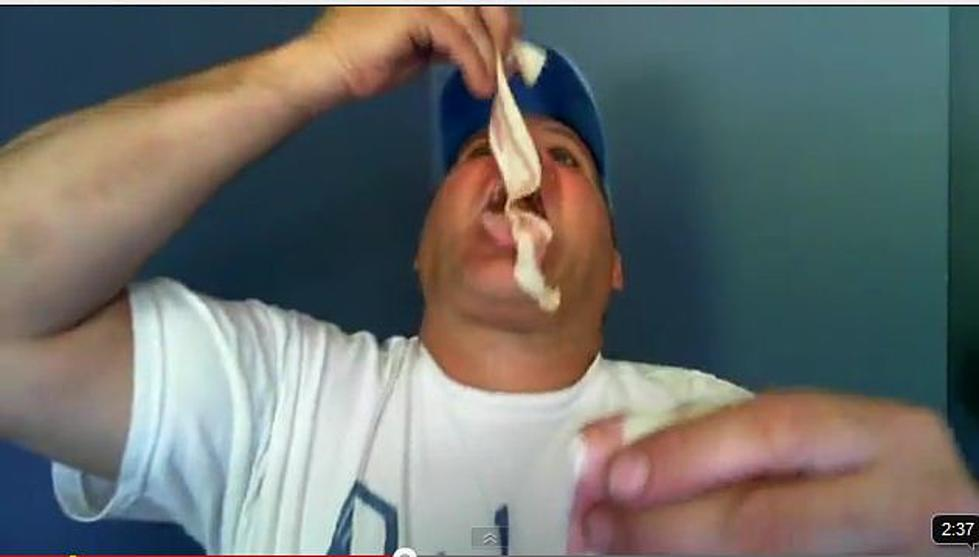bacon: (471, 30, 577, 208)
